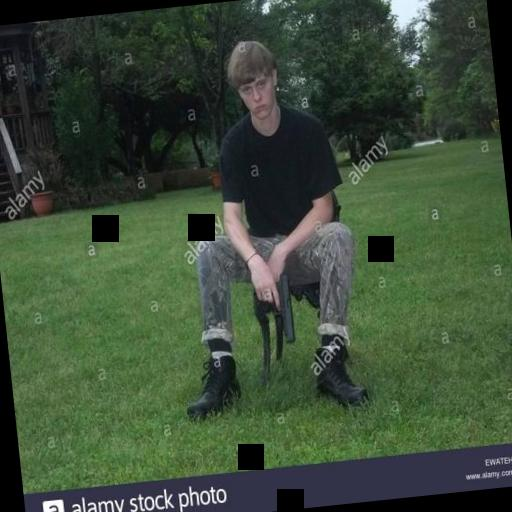Handgun: (248, 272, 295, 346)
